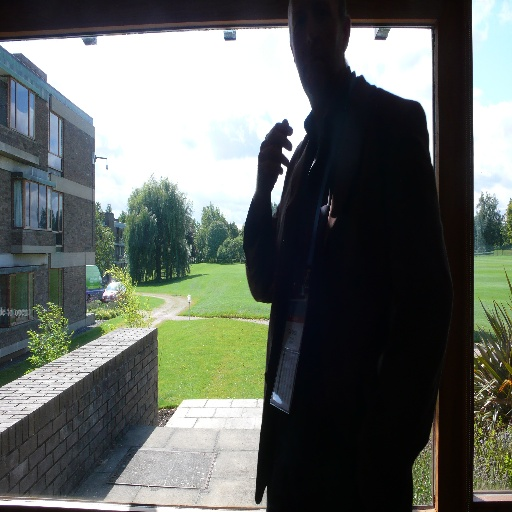hand: (251, 120, 297, 189)
